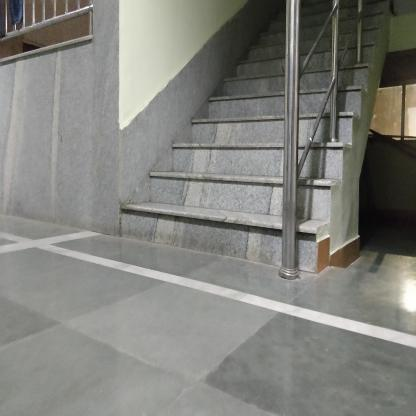stairs: (210, 92, 280, 273)
